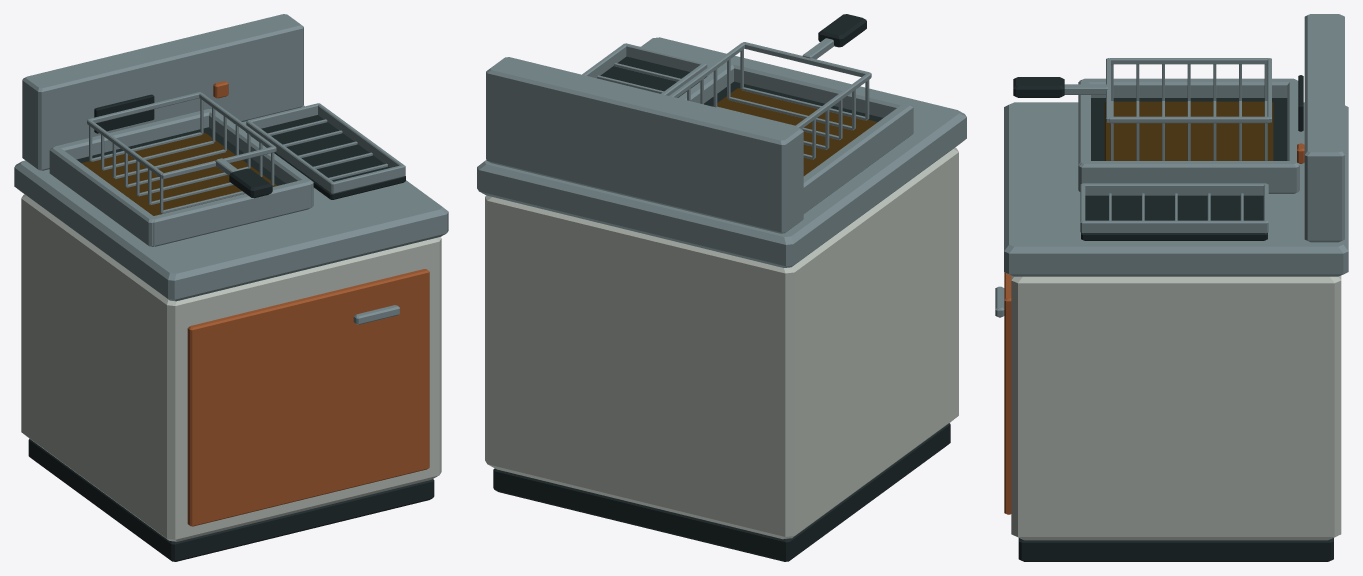
The model's file is fryer.glb.
The picture shows the model from 3 angles, left to right: view 1: azimuth 30°, elevation 25°; view 2: azimuth 150°, elevation 25°; view 3: azimuth 270°, elevation 25°; orthographic projection. The views are drawn at different scales.
Parts seen in each view (by area): view 1: fryer; view 2: fryer; view 3: fryer.
Boxes of the visible parts, x1,y1,x2,y2 form: fryer: [14, 14, 448, 561]; fryer: [477, 14, 966, 561]; fryer: [995, 14, 1348, 561].
Size of the model in its own units: 0.96 by 1.24 by 0.9635.
